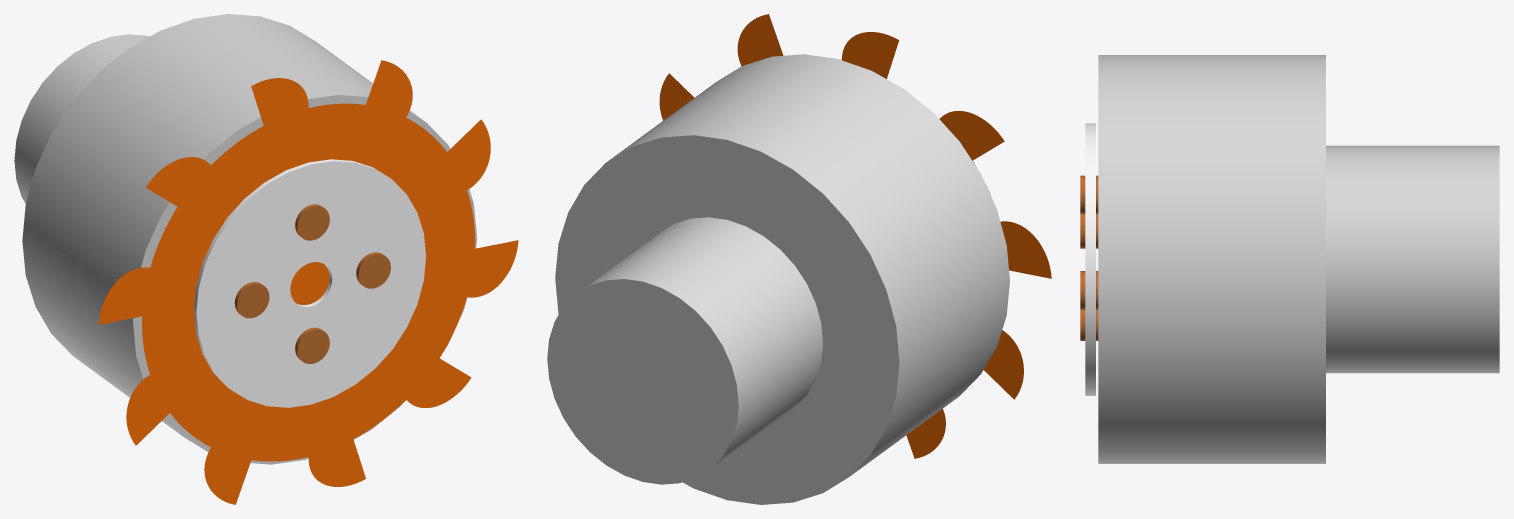
The model's file is turbina.glb.
3 views of the same model, side by side, from view 1: azimuth 30°, elevation 25°; view 2: azimuth 150°, elevation 25°; view 3: azimuth 270°, elevation 25° (orthographic). The views are drawn at different scales.
Parts seen in each view (by area): view 1: paletas, turbina.001, Cylinder.002, Cylinder.003, Cylinder.001, Cylinder.004, Cylinder.005; view 2: turbina.001, paletas; view 3: turbina.001, Cylinder.002.
Part boxes in pixels (x1,y1,x2,y2): paletas: (98,60,518,504); turbina.001: (14,14,476,464); Cylinder.002: (194,159,425,407); Cylinder.003: (295,204,329,240); Cylinder.001: (356,252,390,288); Cylinder.004: (295,327,329,363); Cylinder.005: (234,282,269,318); turbina.001: (547,54,1009,504); paletas: (659,14,1051,458); turbina.001: (1098,55,1499,463); Cylinder.002: (1085,123,1095,395).
Size of the model in its own units: 0.9101 by 0.8822 by 0.7643.
